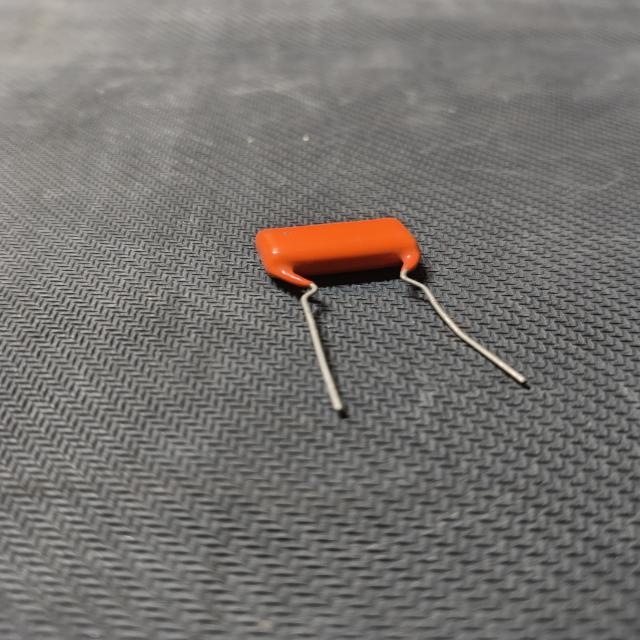capacitor: (246, 208, 546, 420)
